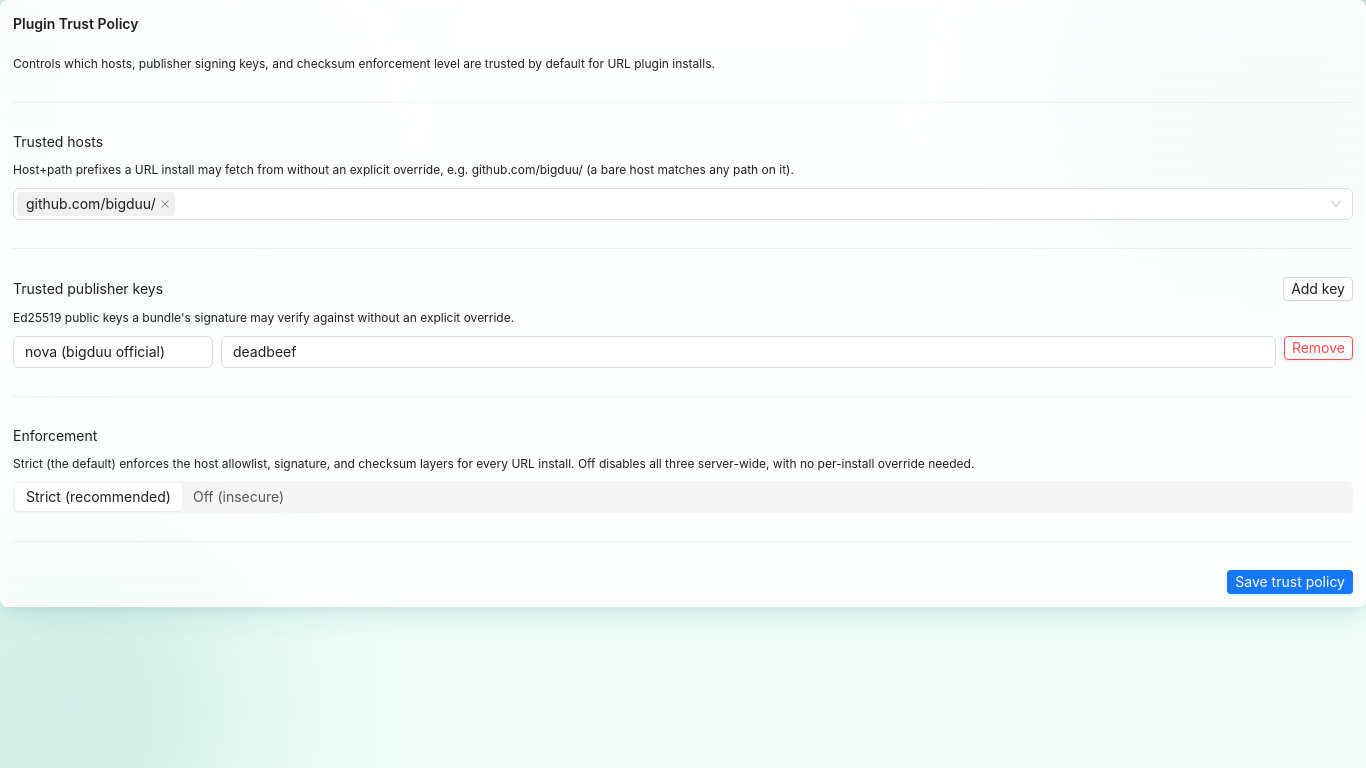
Test case: PluginTrustSection › shows a strong warning when enforcement is switched to Off
Expected: the element with test id "trust-enforcement" is shown, [13,481,1353,513]
Click the text "Off (insecure)".
click(239, 497)  # box [193,488,284,505]
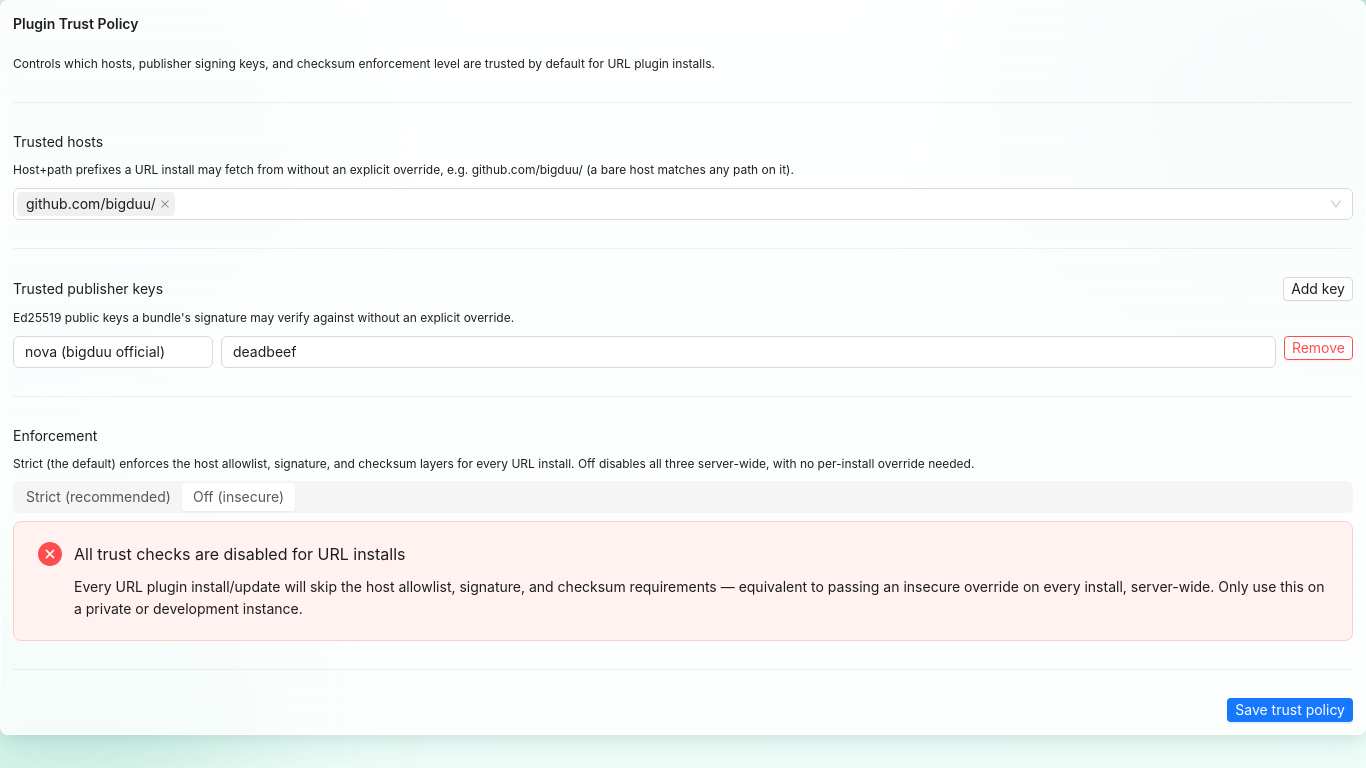
Result: the text "All trust checks are disabled for URL installs" is shown at [74,544,406,564]
